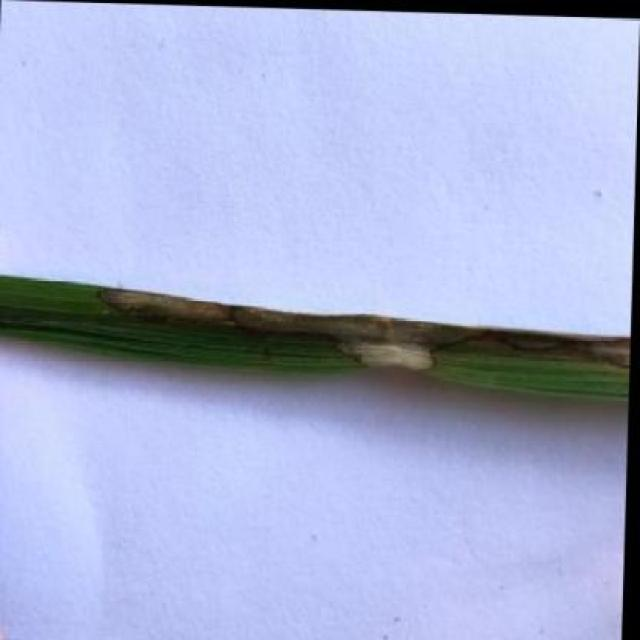Brown_Spot: (0, 264, 634, 413)
